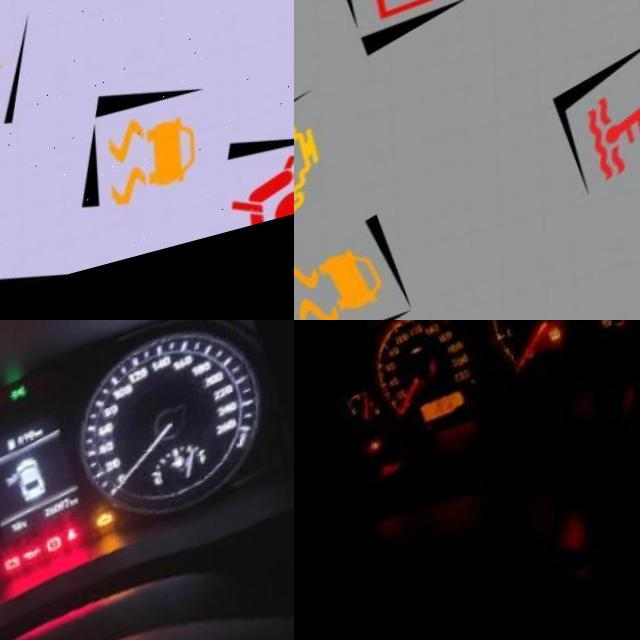Engine cooling system: (623, 320, 640, 334)
